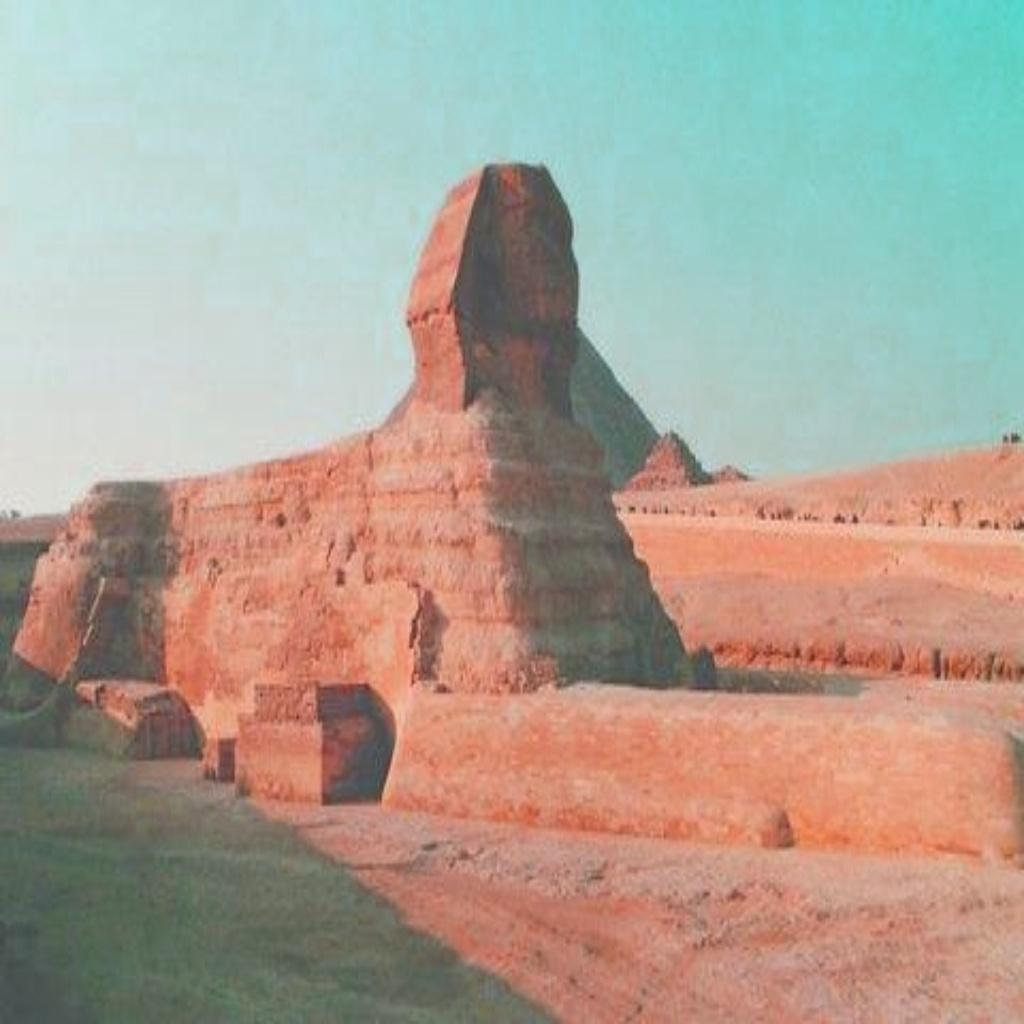Sphinx: (0, 154, 708, 786)
